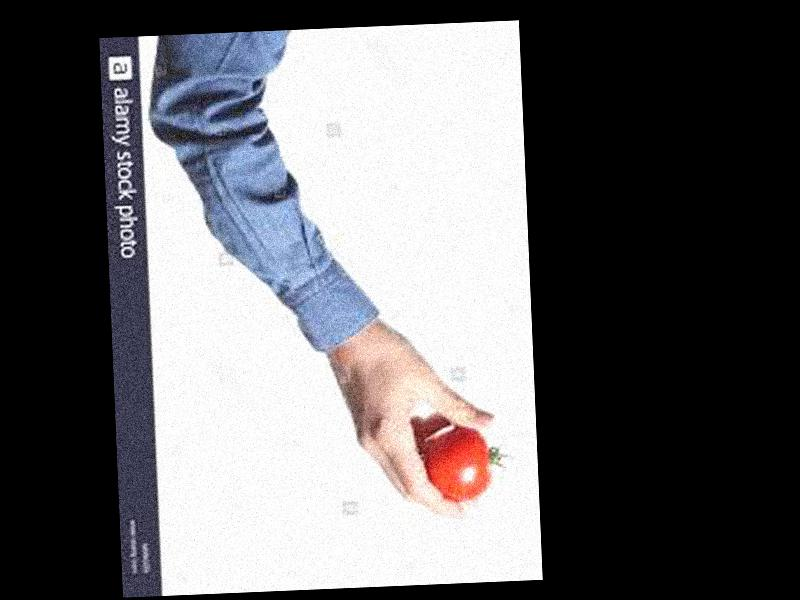Tomato: (426, 428, 490, 503)
